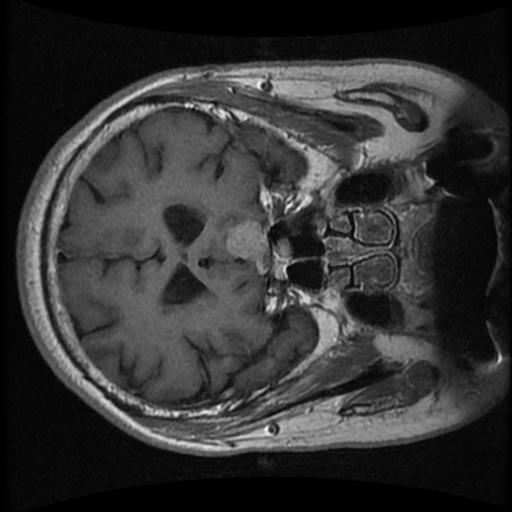pituitary tumour: (226, 218, 290, 275)
